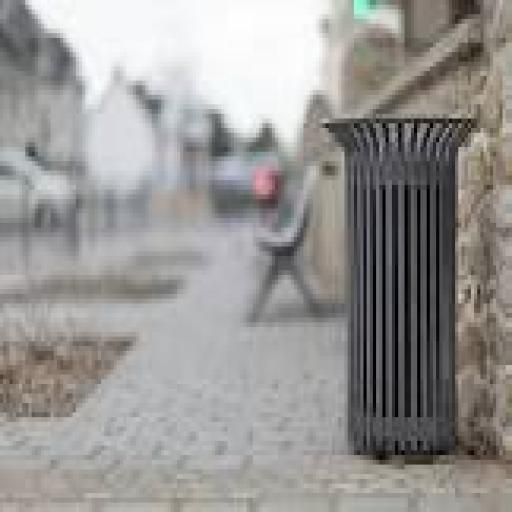poubelle_vide: (314, 96, 500, 502)
